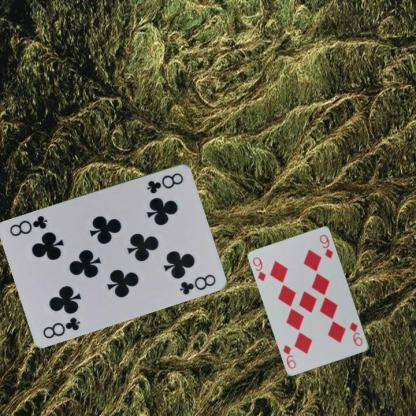8c: (40, 314, 82, 340), (144, 170, 185, 195)
9d: (250, 254, 268, 282), (347, 320, 364, 348)
